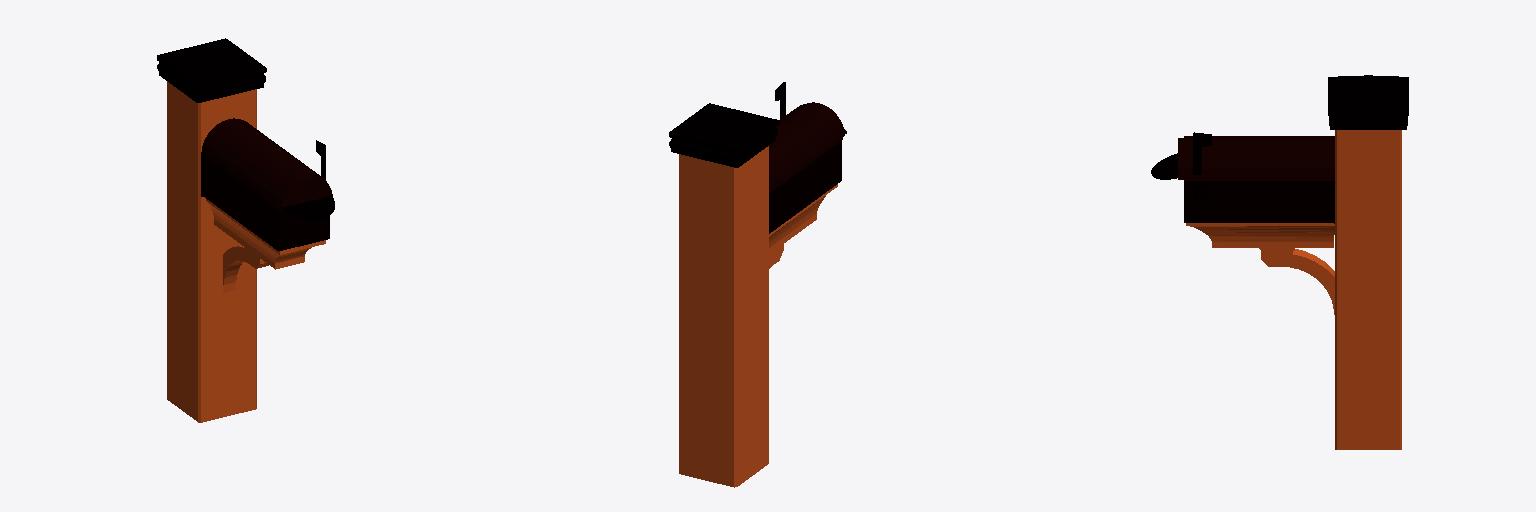
Rendered from MyMailbox.obj.
3 renders of one model, left to right at view 1: azimuth 30°, elevation 25°; view 2: azimuth 150°, elevation 25°; view 3: azimuth 270°, elevation 25°, orthographic.
Parts seen in each view (by area): view 1: column, mailbox, columntop, boxsupport, mailbox.002; view 2: column, mailbox, columntop, boxsupport; view 3: column, mailbox, boxsupport, columntop, flag.
Boxes of the visible parts, box(x1,y1,x2,y2) form: column: box(167, 81, 256, 422); mailbox: box(201, 118, 329, 250); columntop: box(157, 38, 266, 102); boxsupport: box(206, 199, 325, 292); mailbox.002: box(282, 196, 334, 220); column: box(679, 146, 768, 487); mailbox: box(769, 103, 842, 233); columntop: box(669, 103, 778, 167); boxsupport: box(769, 184, 837, 268); column: box(1335, 130, 1401, 449); mailbox: box(1184, 136, 1334, 223); boxsupport: box(1186, 223, 1334, 314); columntop: box(1328, 75, 1408, 129); flag: box(1193, 132, 1211, 199).
Bounding box in the file's own units: 2.4 × 11.83 × 7.67.